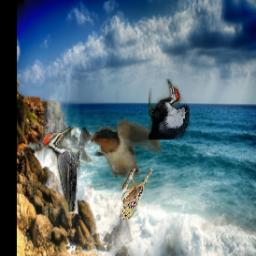Sparrow: (119, 168, 153, 219)
Swallow: (90, 120, 162, 178)
Woodpecker: (43, 127, 80, 212), (149, 80, 190, 141)
